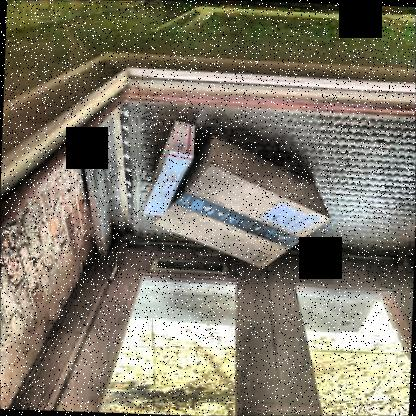no defect parcel: (142, 116, 350, 294), (124, 107, 218, 234)
